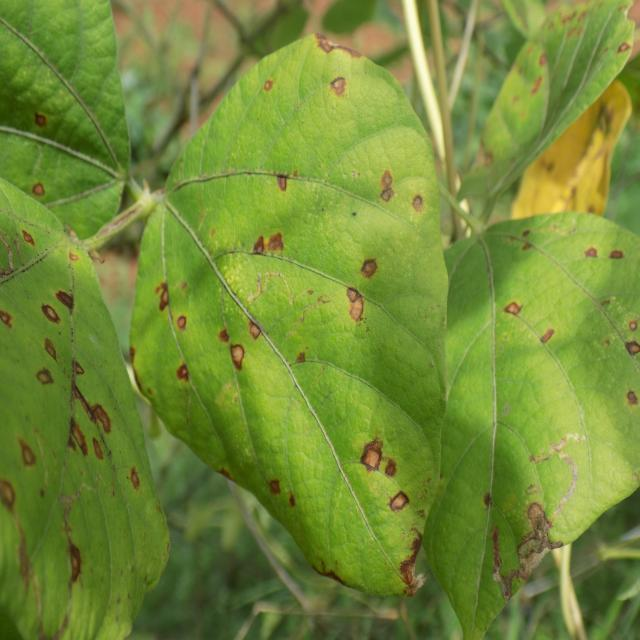Dolicos bean_cercospora leaf spot: (125, 42, 448, 594)
